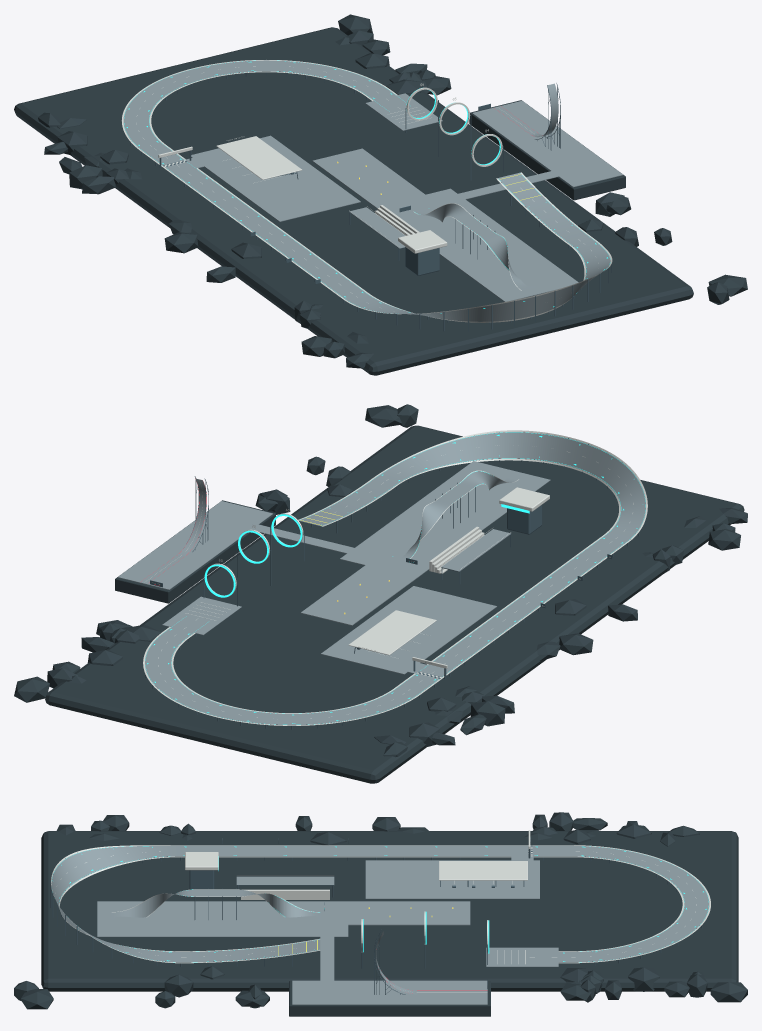
The model's file is VectorCoastal_Course.glb.
3 renders of one model, top to bottom at view 1: azimuth 30°, elevation 25°; view 2: azimuth 150°, elevation 25°; view 3: azimuth 270°, elevation 25°, orthographic. The views are drawn at different scales.
Visible parts, largest first — view 1: VIS_LOD0_Roadster_Basalt, VIS_LOD0_Roadster_Deck_Ceramic, VIS_LOD0_Roadster_Porcelain, COL_Ground_CeilingCatch, COL_Ground_Paddock, COL_Ground_CurlSafetyPad, COL_Ground_Practice, VIS_LOD0_Roadster_Structure, COL_Landing_Apron, VIS_LOD0_Roadster_Guidance_Cyan, COL_Ground_ObservationDeck; view 2: VIS_LOD0_Roadster_Basalt, VIS_LOD0_Roadster_Deck_Ceramic, VIS_LOD0_Roadster_Porcelain, COL_Ground_Paddock, COL_Ground_Practice, VIS_LOD0_Roadster_Structure, COL_Ground_CurlSafetyPad, VIS_LOD0_Roadster_Guidance_Cyan, COL_Landing_Apron, COL_Ground_ObservationDeck, COL_Ground_CeilingCatch; view 3: VIS_LOD0_Roadster_Basalt, VIS_LOD0_Roadster_Deck_Ceramic, VIS_LOD0_Roadster_Porcelain, COL_Ground_Paddock, COL_Ground_Practice, VIS_LOD0_Roadster_Structure, COL_Landing_Apron, COL_Ground_ObservationDeck, COL_Ground_CurlSafetyPad, VIS_LOD0_Roadster_Guidance_Cyan, COL_Ground_CurlAccess, COL_WallRide_CeilingLab.
Part boxes in pixels (box(x1,y1,x2,y2)): VIS_LOD0_Roadster_Basalt: box(14, 14, 747, 375); VIS_LOD0_Roadster_Deck_Ceramic: box(123, 60, 622, 321); VIS_LOD0_Roadster_Porcelain: box(121, 60, 612, 322); COL_Ground_CeilingCatch: box(376, 188, 578, 301); COL_Ground_Paddock: box(191, 135, 360, 221); COL_Ground_CurlSafetyPad: box(472, 101, 622, 187); COL_Ground_Practice: box(312, 148, 424, 208); VIS_LOD0_Roadster_Structure: box(124, 72, 611, 331); COL_Landing_Apron: box(365, 93, 442, 130); VIS_LOD0_Roadster_Guidance_Cyan: box(124, 60, 610, 313); COL_Ground_ObservationDeck: box(349, 207, 405, 248); VIS_LOD0_Roadster_Basalt: box(14, 404, 747, 783); VIS_LOD0_Roadster_Deck_Ceramic: box(119, 432, 645, 724); VIS_LOD0_Roadster_Porcelain: box(143, 430, 647, 725); COL_Ground_Paddock: box(321, 586, 496, 674); COL_Ground_Practice: box(301, 565, 422, 625); VIS_LOD0_Roadster_Structure: box(145, 432, 647, 729); COL_Ground_CurlSafetyPad: box(118, 501, 272, 589); VIS_LOD0_Roadster_Guidance_Cyan: box(145, 432, 645, 724); COL_Landing_Apron: box(162, 596, 241, 635); COL_Ground_ObservationDeck: box(441, 529, 511, 571); COL_Ground_CeilingCatch: box(340, 461, 550, 573); VIS_LOD0_Roadster_Basalt: box(14, 812, 747, 1016); VIS_LOD0_Roadster_Deck_Ceramic: box(51, 845, 709, 1004); VIS_LOD0_Roadster_Porcelain: box(51, 830, 710, 992); COL_Ground_Paddock: box(365, 860, 539, 898); COL_Ground_Practice: box(337, 901, 470, 925); VIS_LOD0_Roadster_Structure: box(50, 837, 708, 994); COL_Landing_Apron: box(486, 947, 558, 966); COL_Ground_ObservationDeck: box(236, 876, 334, 884); COL_Ground_CurlSafetyPad: box(292, 980, 487, 1004); VIS_LOD0_Roadster_Guidance_Cyan: box(52, 846, 708, 962); COL_Ground_CurlAccess: box(320, 937, 334, 980); COL_WallRide_CeilingLab: box(152, 893, 279, 912).
Size of what is drawn, in the model's own units: 332 by 63.88 by 526.
